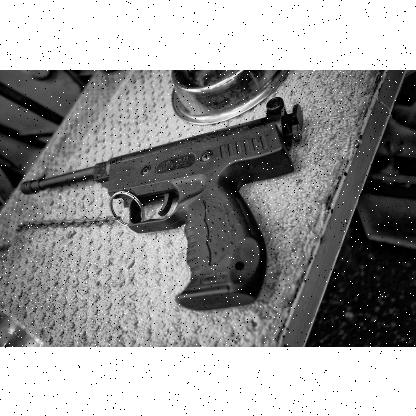gun: (20, 96, 302, 308)
